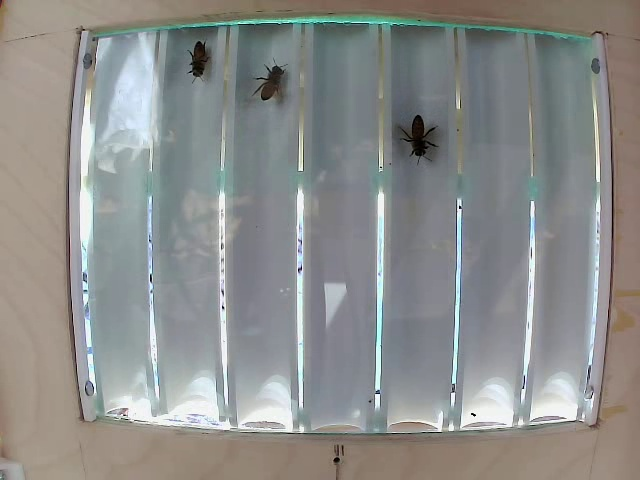bee: (238, 53, 291, 101), (389, 105, 429, 160), (179, 40, 222, 84)
